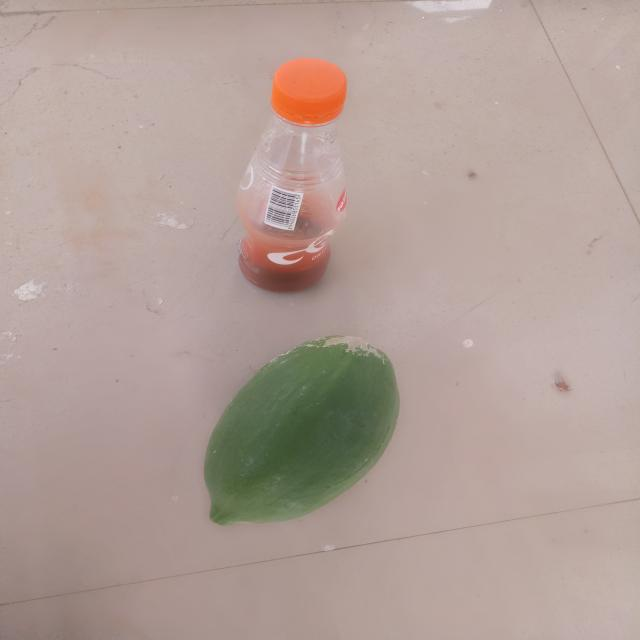Pepaya unrippen: (195, 338, 400, 523)
